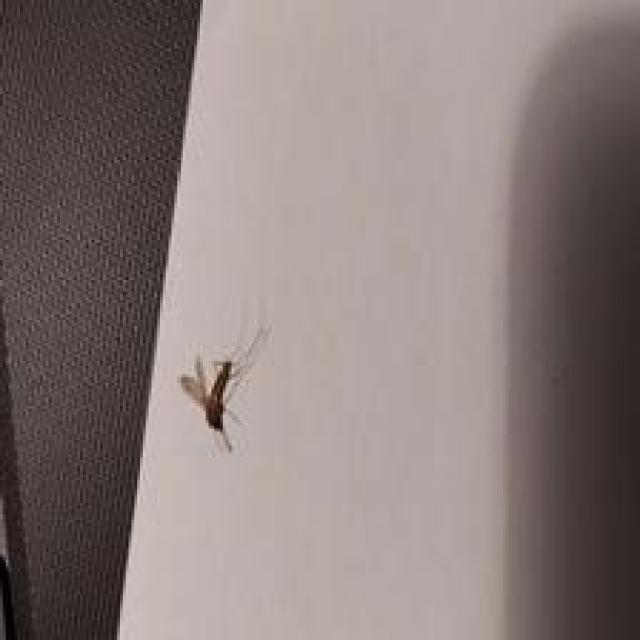Culex: (177, 320, 272, 454)
